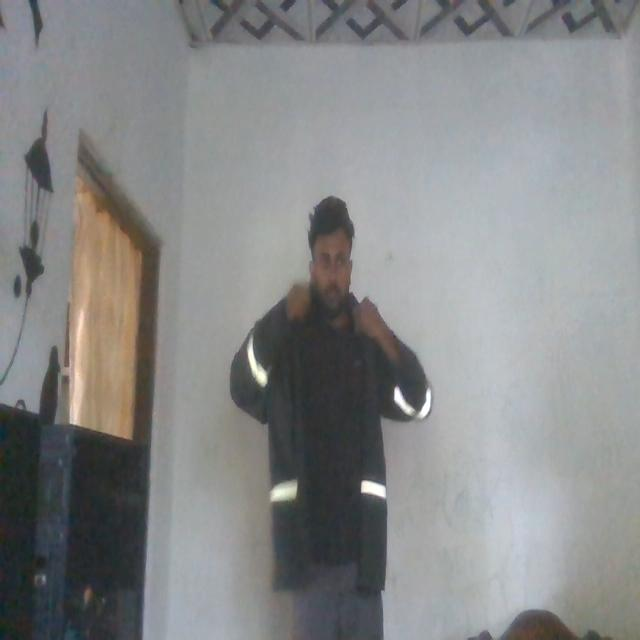Jacket_Wearer: (228, 278, 432, 582)
Person: (227, 183, 441, 640)
